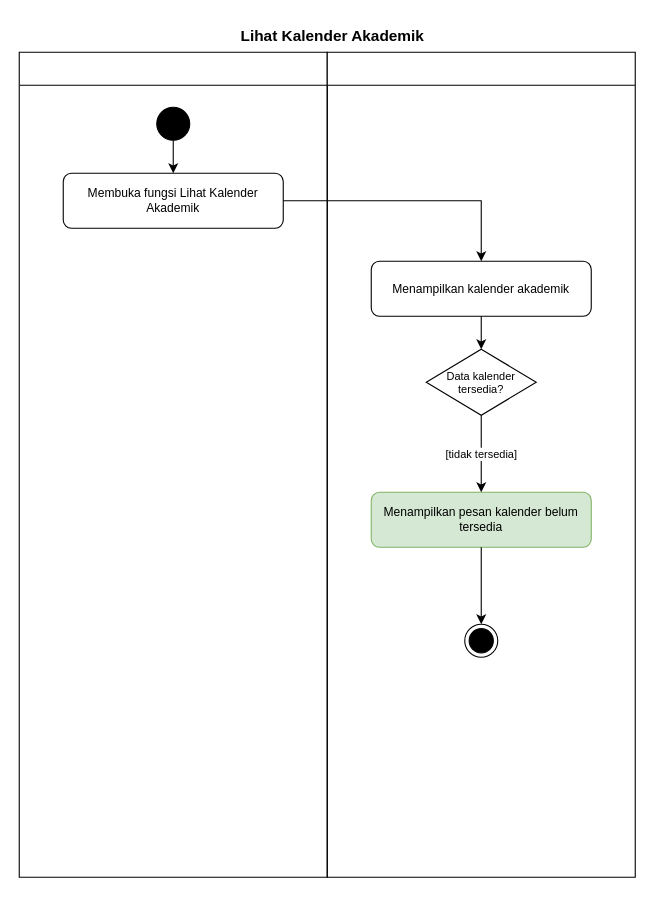
This 655x897 diagram has some shape labels left out. The shapes that lost their labels are listed below. From the top down, each one's box as (x1, y1, x2, y2) in pixels, then its label:
(18, 51, 327, 877): Civitas Akademika
(326, 51, 635, 877): Sistem
